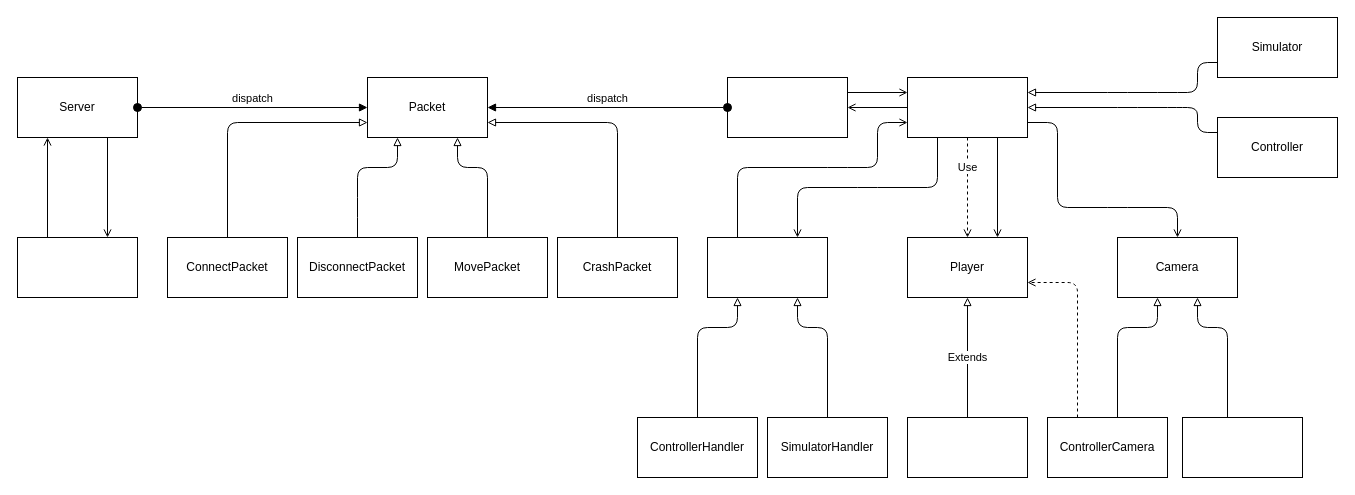
This 1355x495 diagram has some shape labels left out. The box of each missing label's shape, as (x1, y1, x2, y2) in pixels:
Client: (726, 76, 848, 138)
Handler: (706, 236, 828, 298)
MultiplePlayer: (906, 416, 1028, 478)
ServerGUI: (16, 236, 138, 298)
SimulatorCamera: (1182, 416, 1302, 478)
WindowDisplay: (906, 76, 1028, 138)
